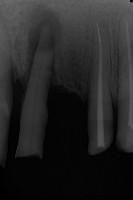Furcation Involvement: (28, 4, 63, 70)
